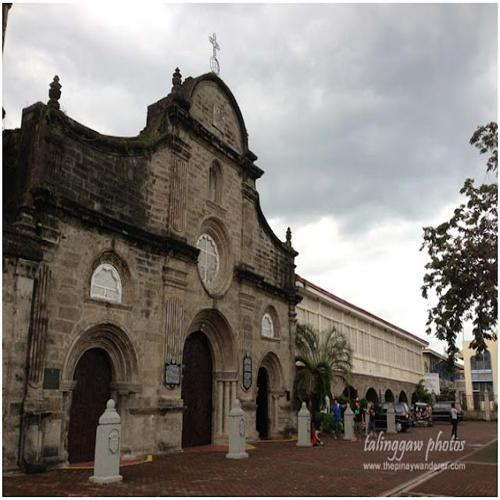Barasoain Church: (3, 1, 299, 465)
